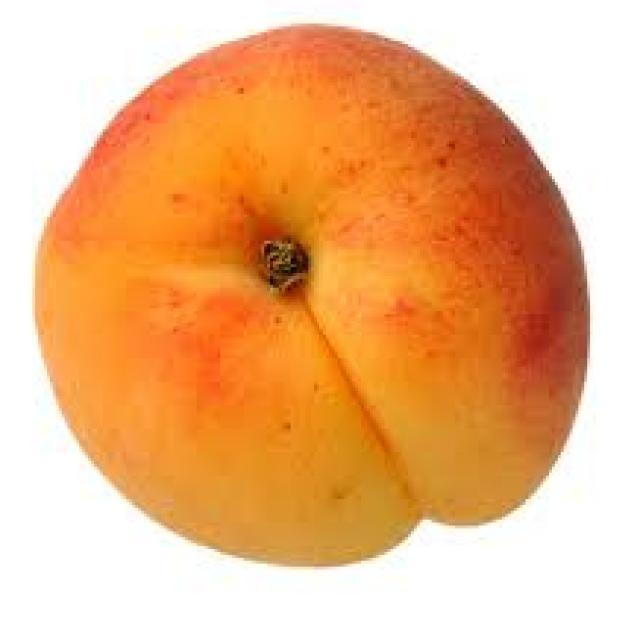apricot: (21, 9, 604, 614)
